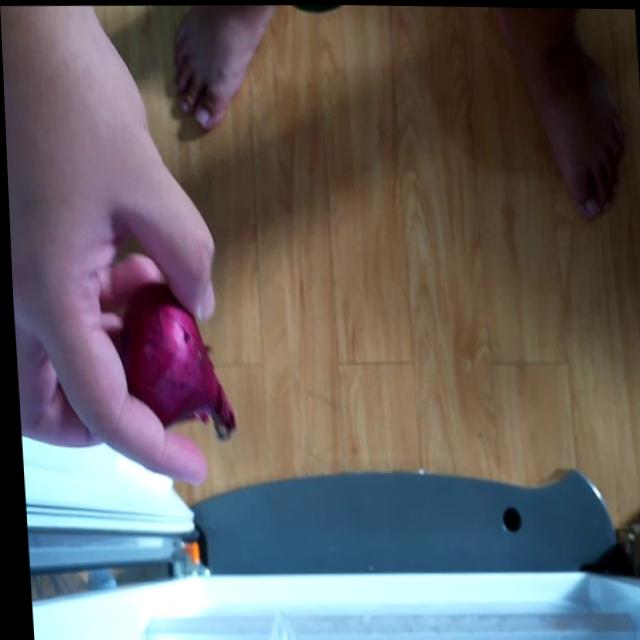onion: (115, 282, 231, 442)
